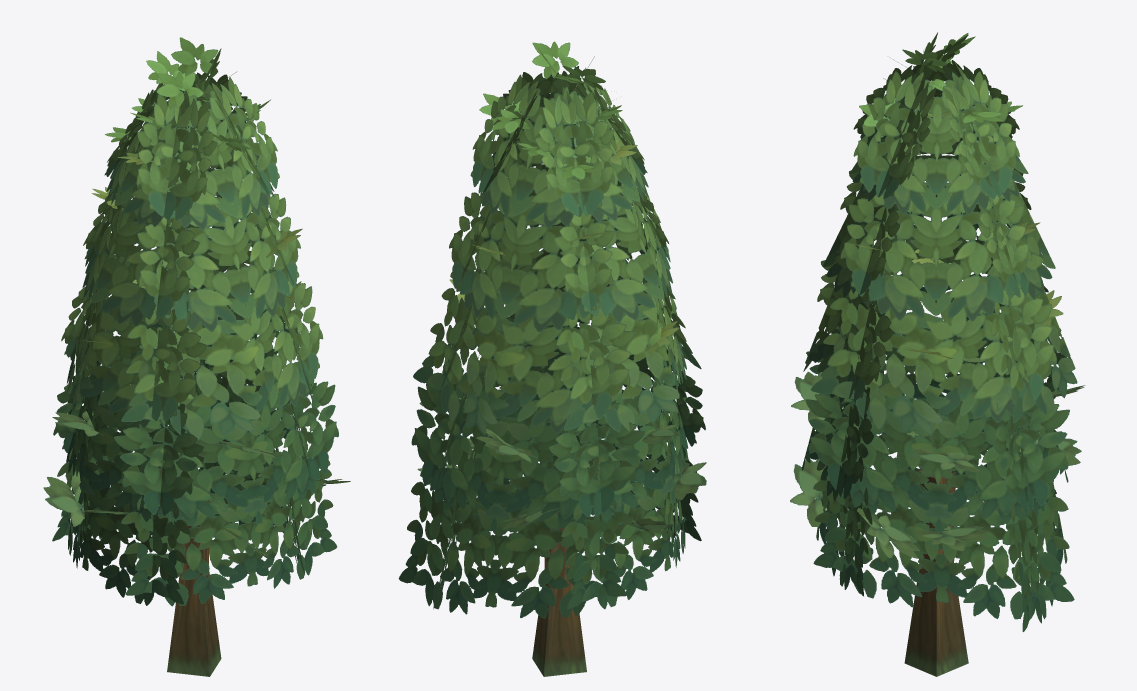
File: Map_06_tree01.FBX
The picture shows the model from 3 angles, left to right: view 1: azimuth 30°, elevation 25°; view 2: azimuth 150°, elevation 25°; view 3: azimuth 270°, elevation 25°; orthographic projection. The views are drawn at different scales.
Parts seen in each view (by area): view 1: Map_06_tree01; view 2: Map_06_tree01; view 3: Map_06_tree01.
Boxes of the visible parts, left/top/right/bottom form: Map_06_tree01: left=43, top=37, right=350, bottom=676; Map_06_tree01: left=398, top=41, right=706, bottom=676; Map_06_tree01: left=790, top=32, right=1085, bottom=676.
Size of the model in its own units: 490 by 472 by 945.
